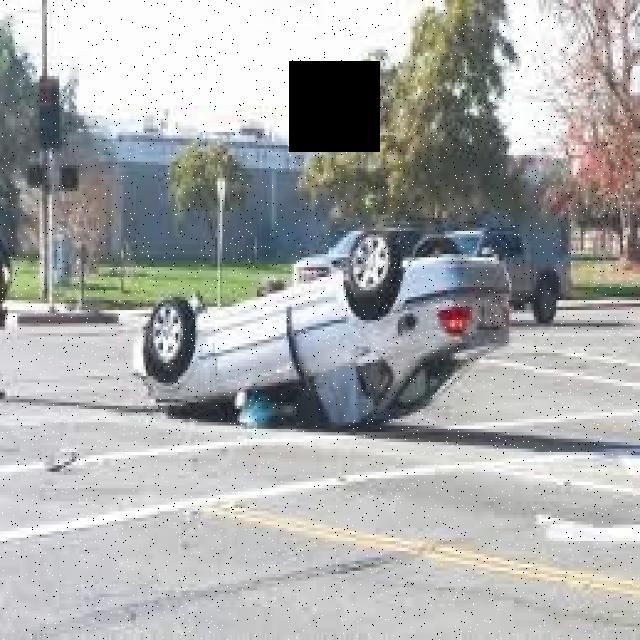severe: (130, 221, 516, 426)
